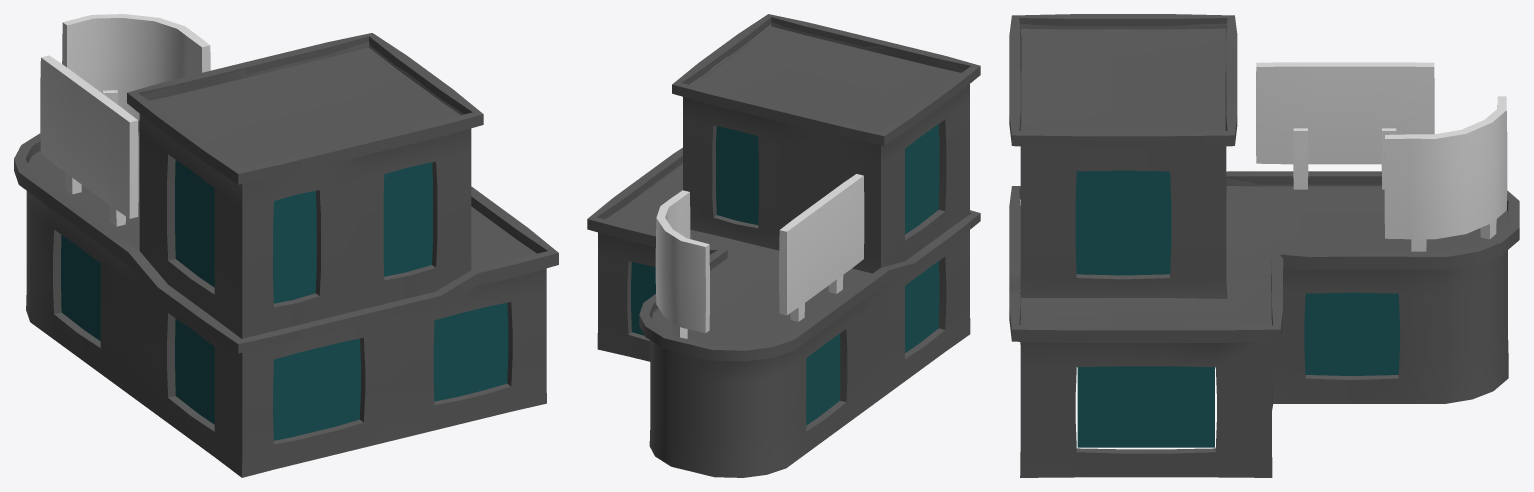
File: building 4_jh_031725.fbx
3 renders of one model, left to right at view 1: azimuth 30°, elevation 25°; view 2: azimuth 150°, elevation 25°; view 3: azimuth 270°, elevation 25°, orthographic. The views are drawn at different scales.
Visible parts, largest first — view 1: Cube.016, Cube.017, Cube.019, Cube.018; view 2: Cube.016, Cube.017, Cube.019, Cube.018; view 3: Cube.016, Cube.017, Cube.019, Cube.018.
Part boxes in pixels (x1,y1,x2,y2): Cube.016: [14, 33, 558, 477]; Cube.017: [61, 160, 508, 440]; Cube.019: [40, 55, 138, 226]; Cube.018: [62, 14, 210, 120]; Cube.016: [587, 14, 980, 477]; Cube.017: [631, 124, 939, 425]; Cube.019: [779, 174, 864, 321]; Cube.018: [655, 190, 709, 338]; Cube.016: [1009, 14, 1519, 477]; Cube.017: [1075, 170, 1399, 447]; Cube.019: [1256, 62, 1434, 189]; Cube.018: [1384, 96, 1507, 251].
Bounding box in the file's own units: 1153 × 1049 × 1563.
